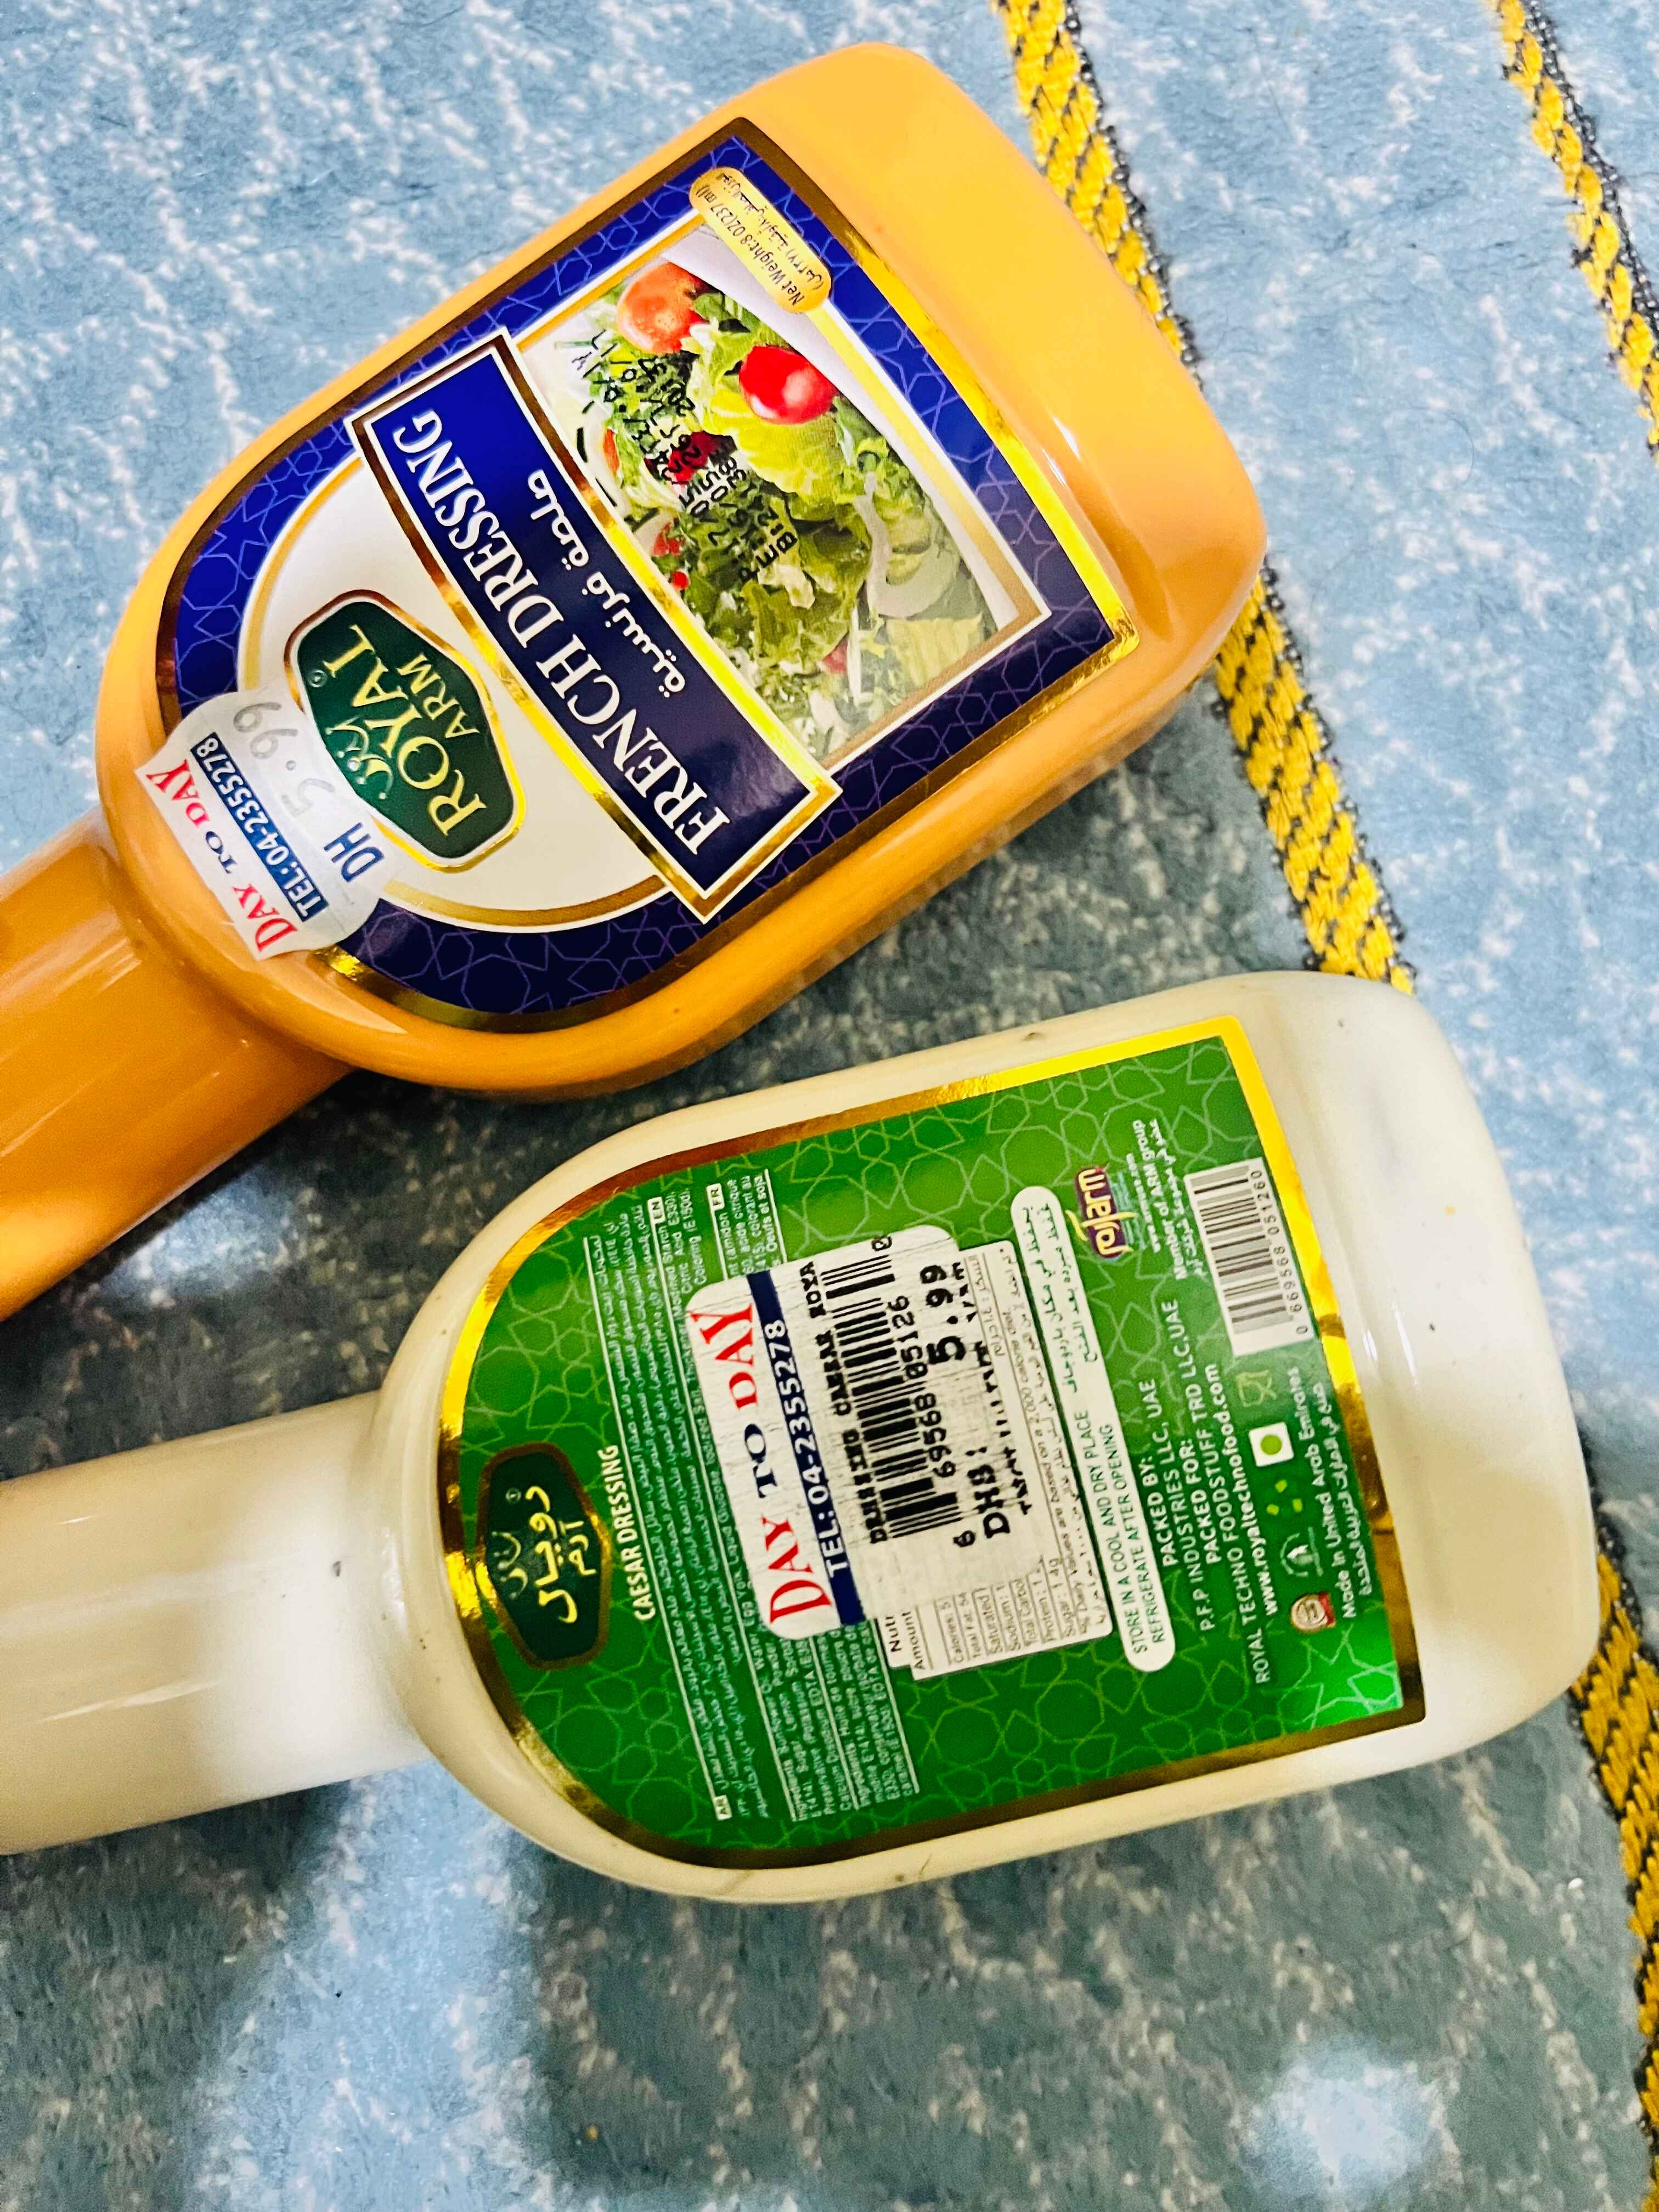PriceTagBig: (674, 1230, 1075, 1658)
PriceTagSmall: (139, 681, 392, 972)
